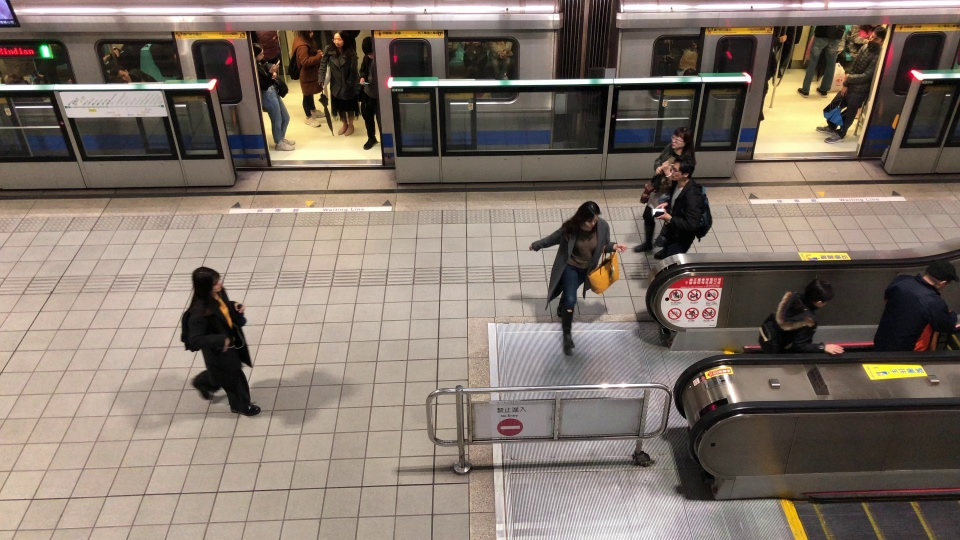person_head: (918, 258, 960, 293), (797, 275, 832, 312), (188, 267, 224, 300), (572, 199, 601, 231), (831, 133, 857, 161), (669, 158, 693, 187), (670, 127, 692, 153), (360, 36, 377, 60), (249, 42, 266, 60), (869, 27, 886, 44), (332, 31, 345, 51), (114, 68, 131, 82), (301, 27, 314, 42)
person_vbox: (526, 198, 610, 356), (177, 266, 263, 419), (872, 258, 960, 362), (630, 126, 694, 248), (757, 275, 845, 357), (653, 157, 713, 264), (815, 26, 866, 147), (245, 42, 298, 154), (319, 31, 361, 135), (291, 27, 328, 129), (356, 34, 385, 151), (795, 25, 838, 100)
